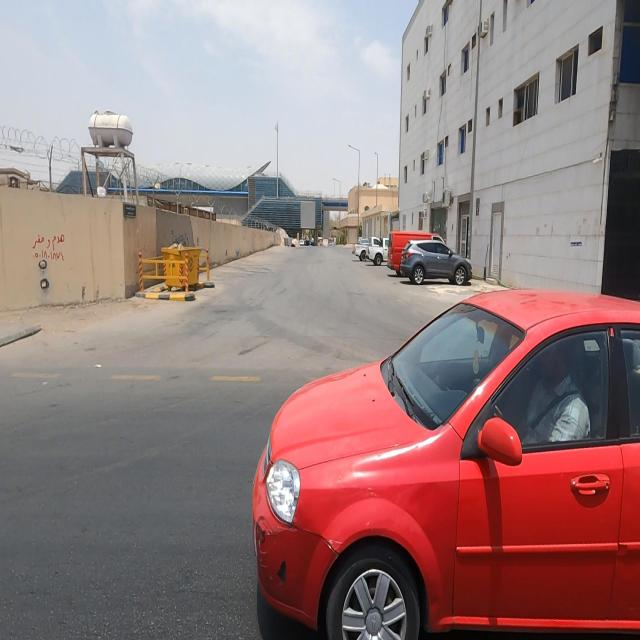Graffiti: (32, 232, 68, 267)
